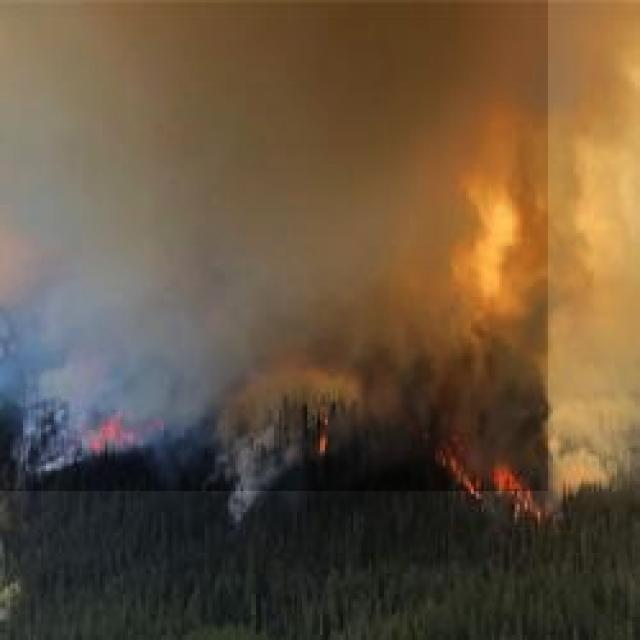Smoke: (0, 0, 548, 491)
